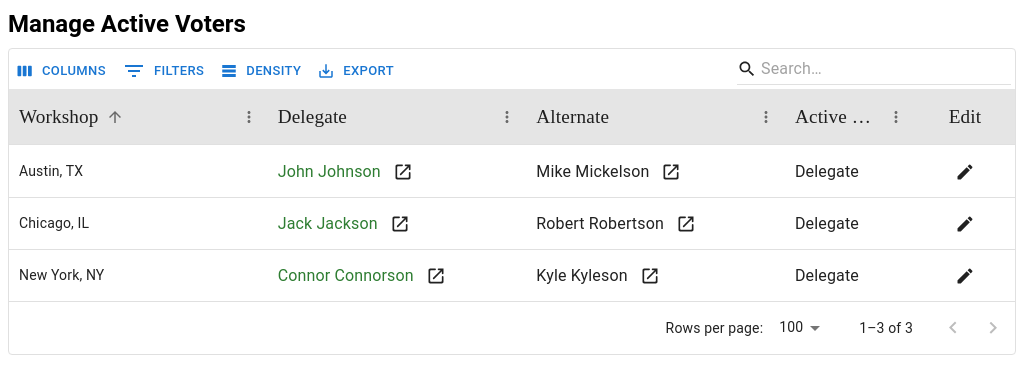
Test: Successfully alerts when error updating active voter
This screenshot has width=1024, height=372.
Click the menu item with test id "edit-active-voter-1".
click(965, 172)  # box [950,156,980,186]
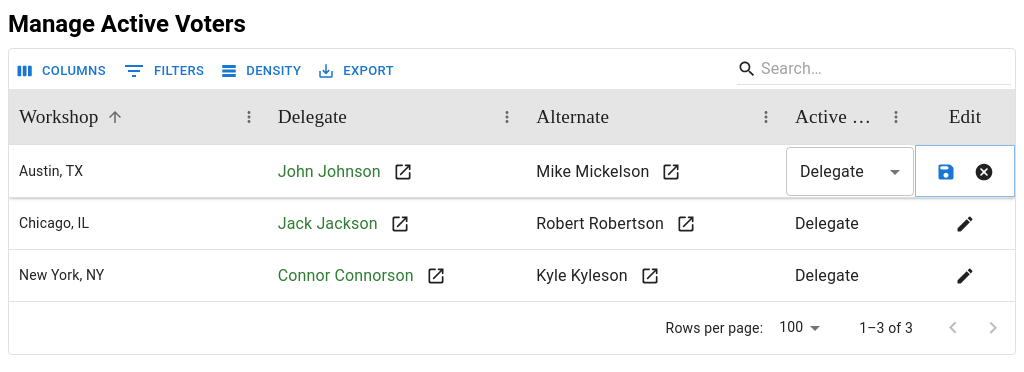
Click the menu item with test id "save-active-voter-1".
click(946, 172)  # box [931,156,961,186]
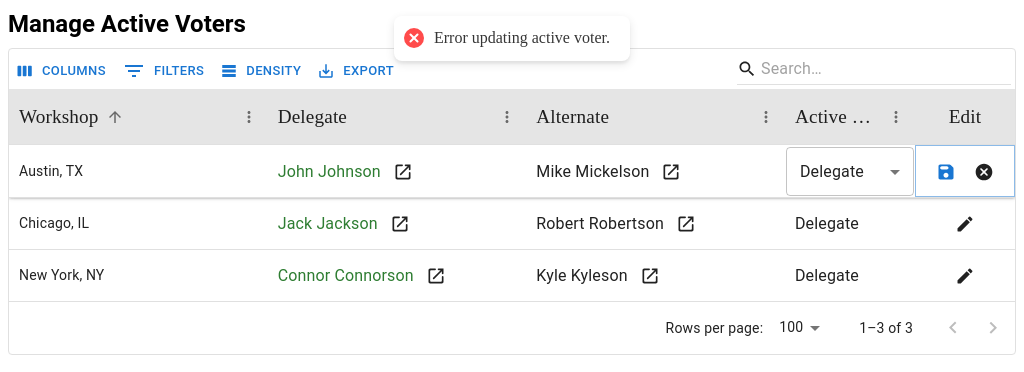
expect the text "Error updating active voter." is shown: met, box [434,28,610,49]
